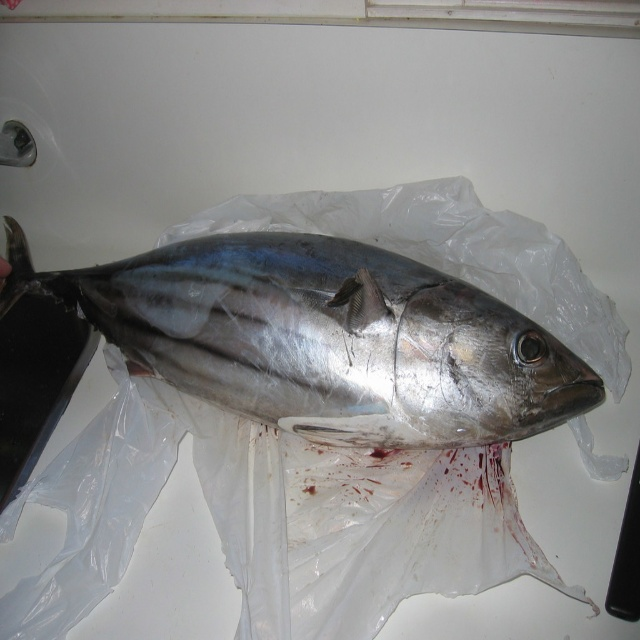Fish: (0, 215, 606, 450)
